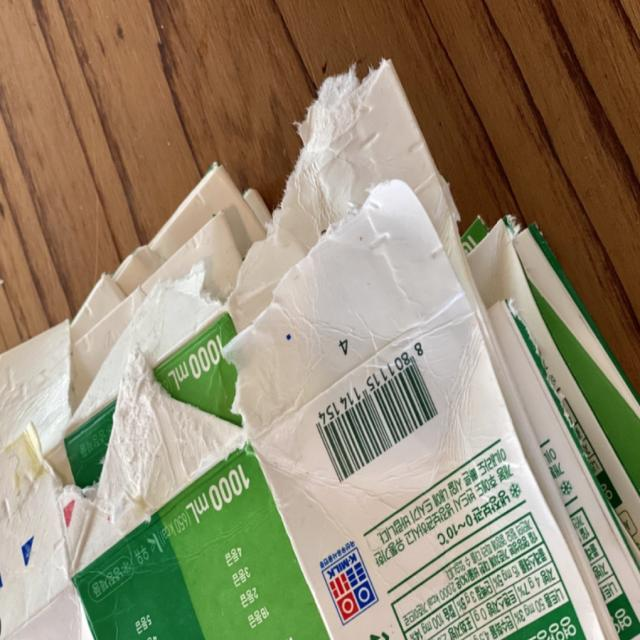biodegradable: (220, 26, 626, 640), (36, 183, 333, 640)
